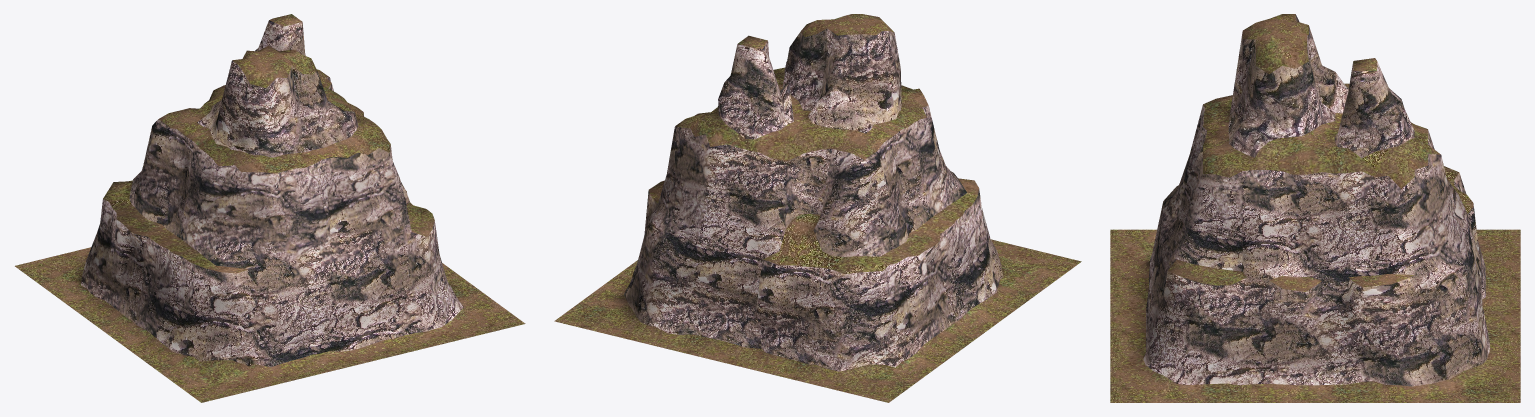
File: mountain1.glb
3 views of the same model, side by side, from view 1: azimuth 30°, elevation 25°; view 2: azimuth 150°, elevation 25°; view 3: azimuth 270°, elevation 25° (orthographic). The views are drawn at different scales.
Parts seen in each view (by area): view 1: Mountain; view 2: Mountain; view 3: Mountain.
Boxes of the visible parts, x1,y1,x2,y2 form: Mountain: (15,14,525,402); Mountain: (554,14,1081,402); Mountain: (1110,14,1520,402).
Size of the model in its own units: 500 by 375 by 500.
Materials: 2 (2 with a texture image).
